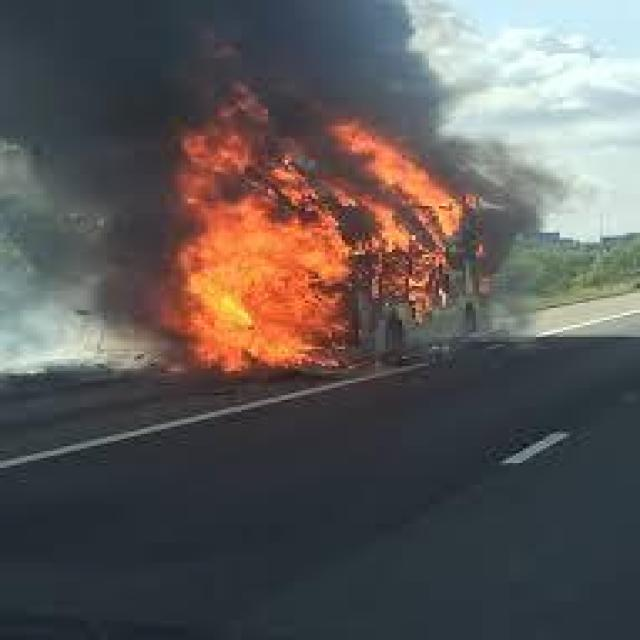fire: (114, 72, 521, 384)
smoke: (0, 2, 446, 119)
